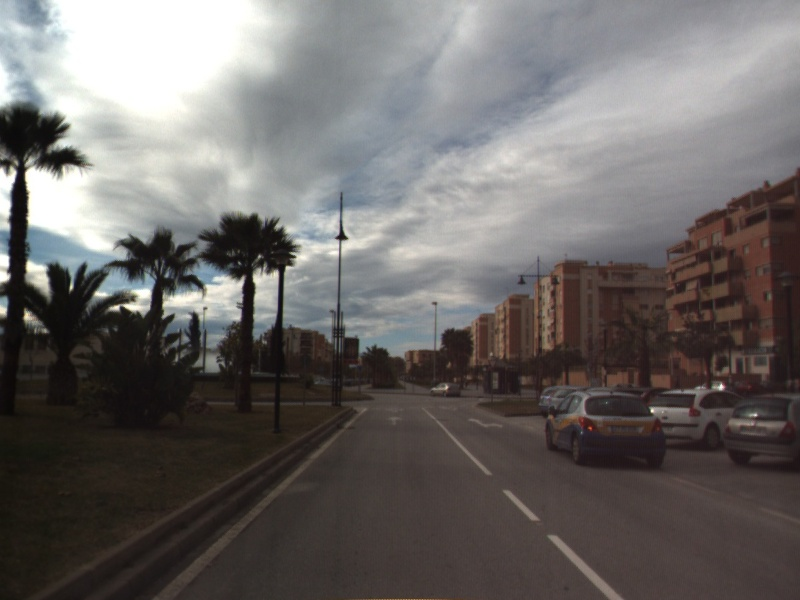STRAIGHT: (384, 414, 405, 427)
STRAIGHT_RIGHT: (466, 416, 505, 430)
